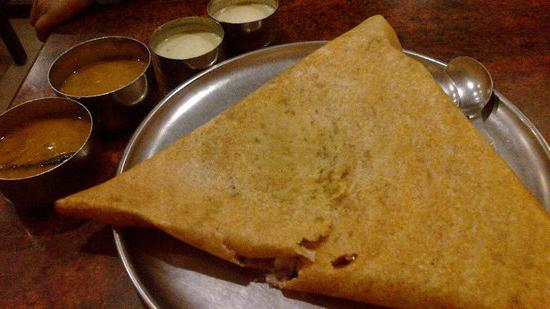dosa: (57, 13, 549, 309)
